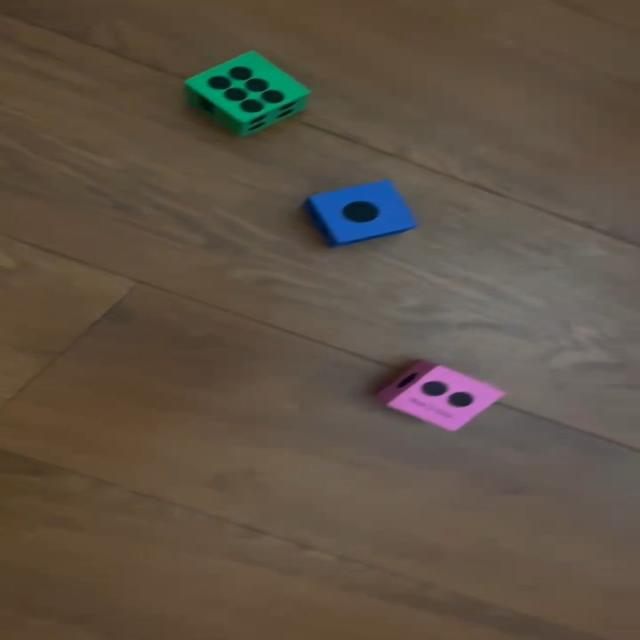blue_block: (304, 178, 416, 248)
